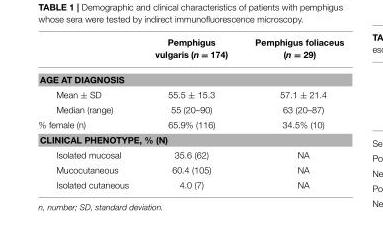table: (37, 37, 343, 189)
table column: (37, 37, 141, 189), (240, 37, 343, 189), (141, 37, 240, 189)
table column header: (37, 37, 343, 66)
table projected row header: (37, 66, 343, 87), (37, 132, 343, 147)
table row: (37, 37, 343, 66), (37, 66, 343, 87), (37, 87, 343, 102), (37, 102, 343, 117), (37, 117, 343, 132), (37, 132, 343, 147), (37, 147, 343, 162), (37, 162, 343, 177), (37, 177, 343, 189)
